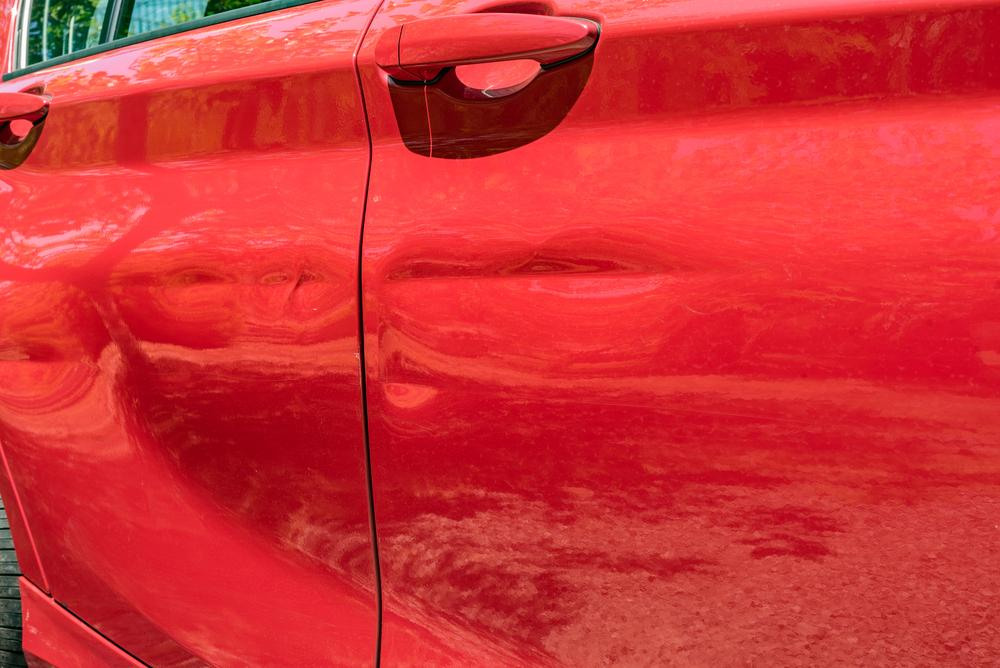dent: (0, 250, 360, 445), (374, 222, 668, 408)
